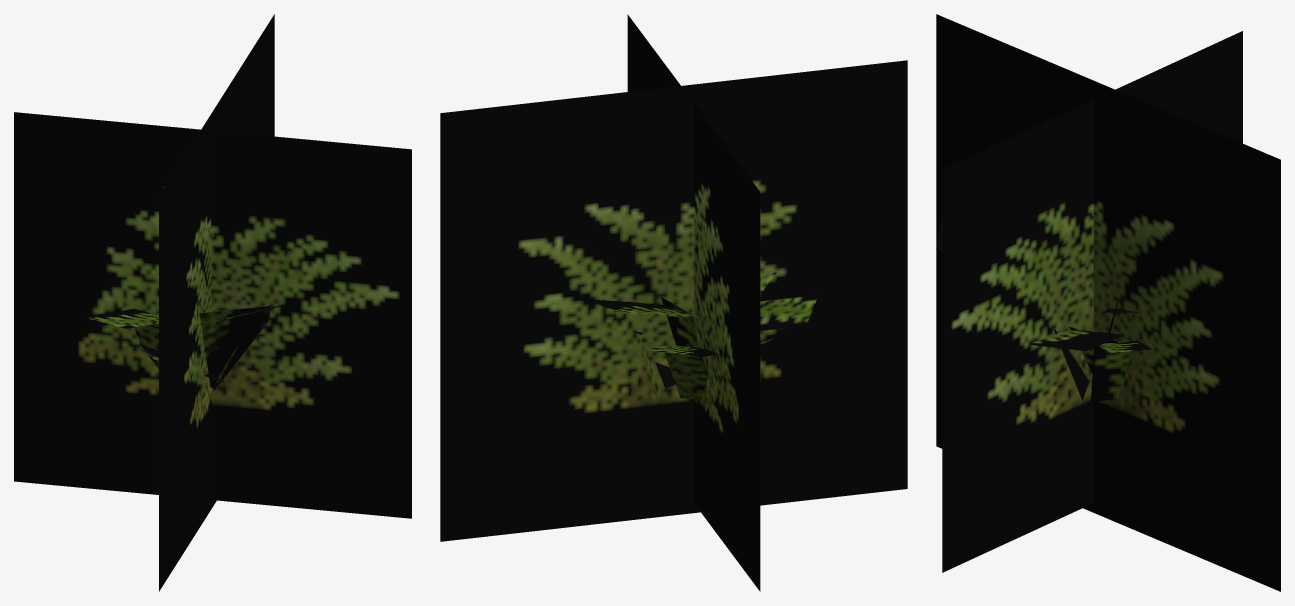
File: big_fern_4.obj
The picture shows the model from 3 angles, left to right: view 1: azimuth 30°, elevation 25°; view 2: azimuth 150°, elevation 25°; view 3: azimuth 270°, elevation 25°; orthographic projection. The views are drawn at different scales.
Parts seen in each view (by area): view 1: cube; view 2: cube; view 3: cube.
Part boxes in pixels (x1,y1,x2,y2): cube: (14,14,411,591); cube: (440,14,907,591); cube: (936,14,1280,591).
Size of the model in its own units: 2.07 by 2.81 by 2.03.
